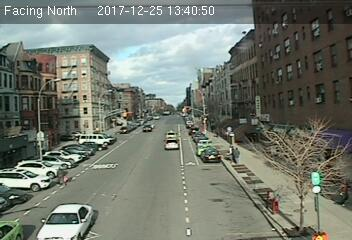car: (34, 202, 95, 240), (200, 148, 221, 164), (164, 137, 180, 149)
